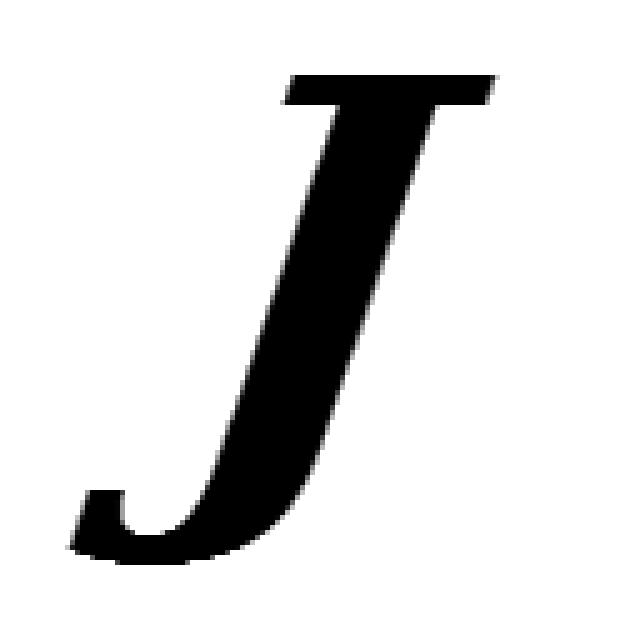J: (60, 65, 500, 570)
